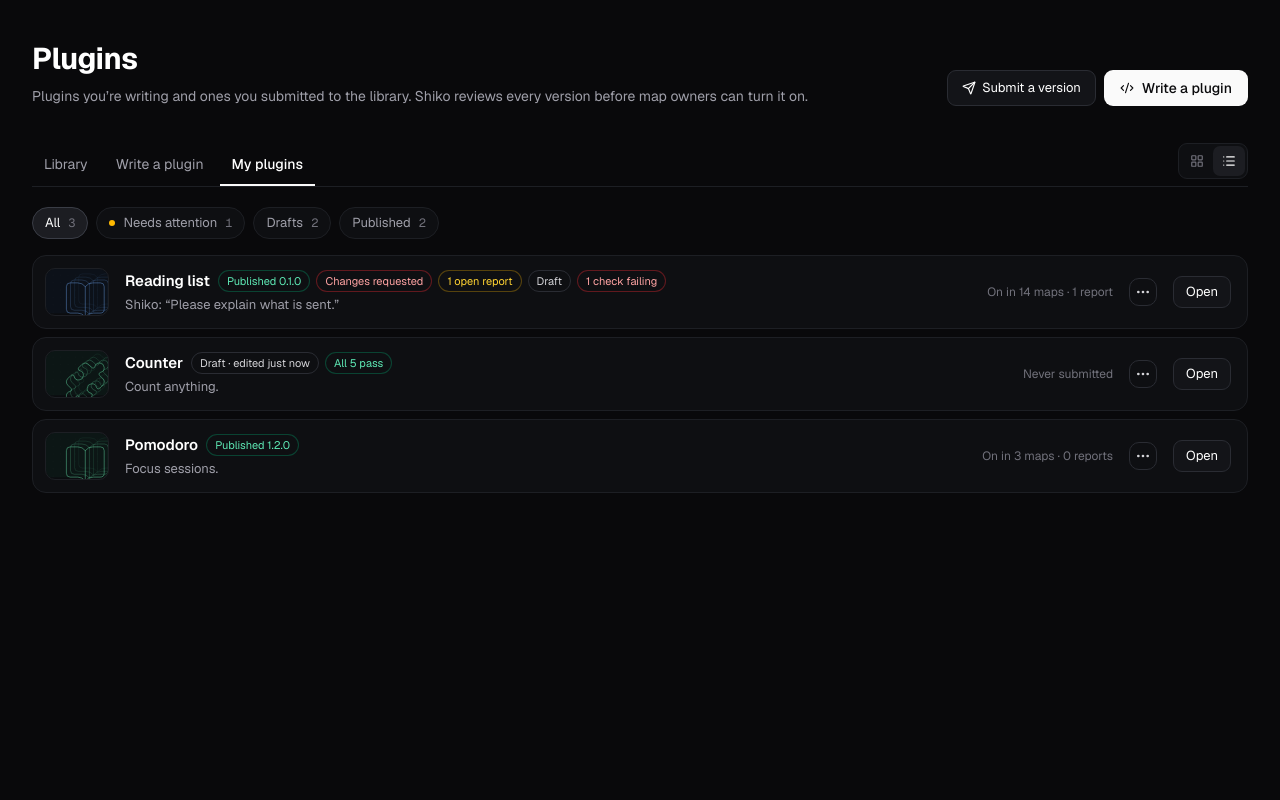
MyPluginsContent › with Developer mode on › shows only drafts for a plugin that was never submitted
What coordinates should you click on to do the following:
click the button "Open" next to "Never submitted"
I would click on:
 (1202, 374)
Its box is [1173, 358, 1231, 390].
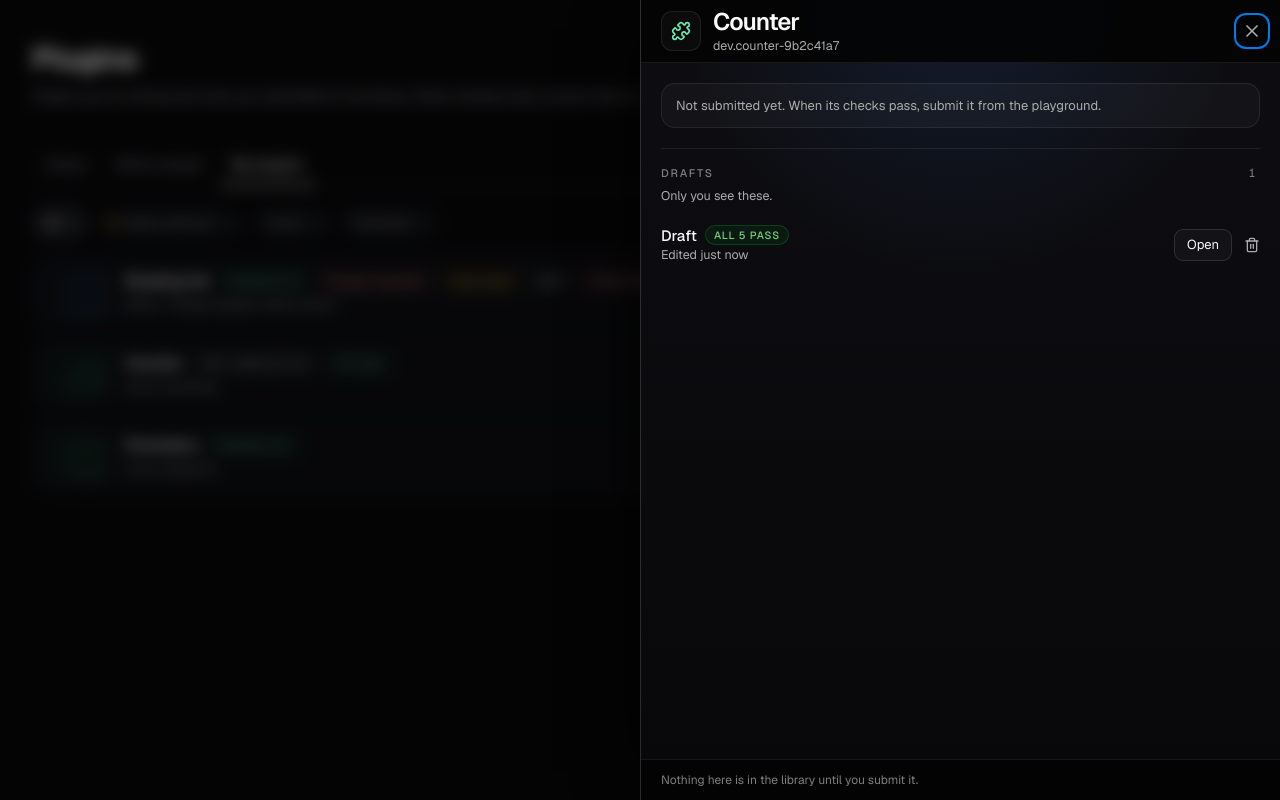
Now the text "Not submitted yet" is shown, box [676, 97, 1101, 114]
Now the heading "Drafts" is shown, box [661, 165, 714, 181]
